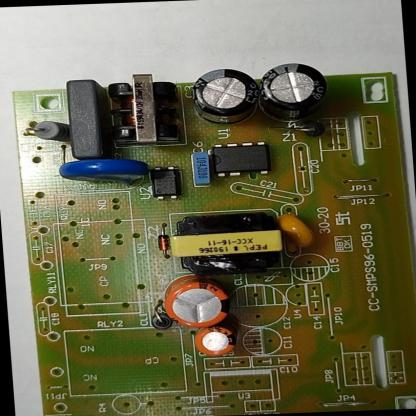Cap1: (158, 271, 238, 331)
Cap2: (191, 324, 241, 358)
Cap3: (183, 64, 264, 126)
Cap4: (253, 62, 334, 126)
MOSFET: (209, 140, 278, 180)
Mov: (56, 152, 158, 191)
Resistor: (28, 117, 72, 146)
Transformer: (165, 208, 292, 278), (102, 70, 187, 148)
